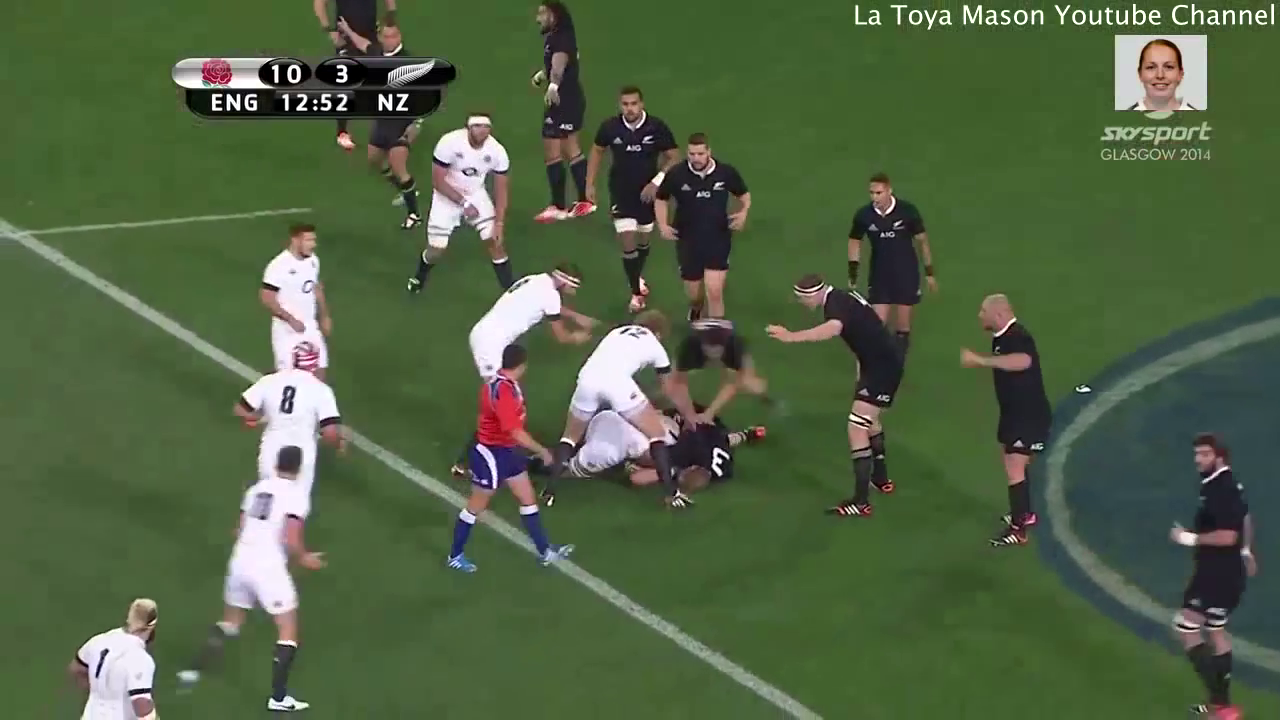player: (166, 443, 331, 708), (754, 269, 905, 524), (528, 308, 697, 512), (443, 339, 584, 580), (1153, 425, 1268, 720), (953, 288, 1059, 560), (399, 109, 519, 304), (229, 335, 350, 524), (582, 83, 676, 313), (651, 131, 757, 324), (517, 1, 602, 228), (841, 170, 941, 351), (665, 312, 801, 427), (66, 589, 176, 720), (467, 264, 589, 380), (258, 215, 333, 383)
